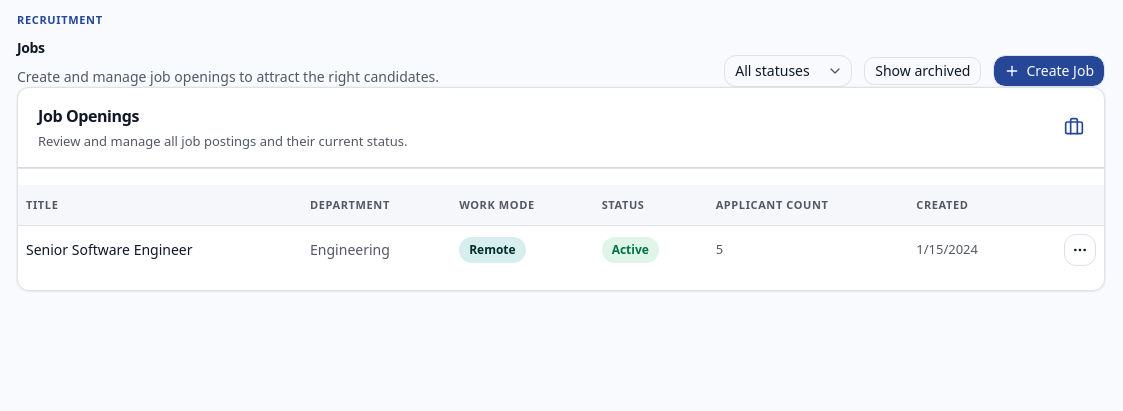
JobsPage › Actions › actions dropdown contains all options
Expected: the button "Senior Software Engineer" is shown, [26,240,294,260]
Click the button named "Manage Senior Software Engineer": [1080, 250] box [1064,234,1096,266]
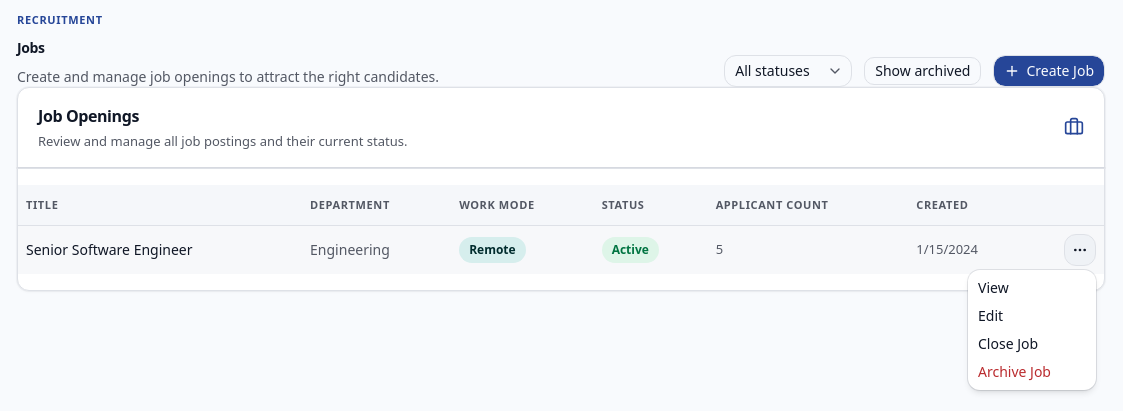
Expected: the menu item "View" is shown, [978,278,1009,297]
Expected: the menu item "Edit" is shown, [978,306,1003,325]
Expected: the menu item "Close Job" is shown, [978,334,1038,353]
